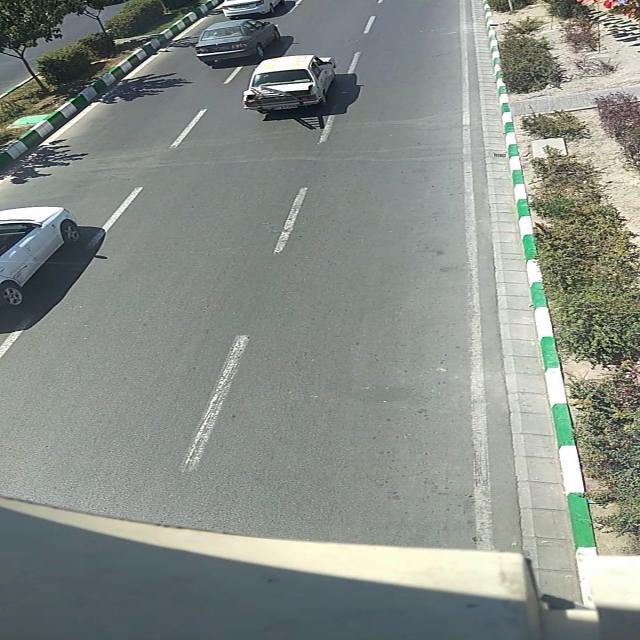car: (0, 207, 82, 307), (242, 54, 341, 115), (197, 19, 276, 65), (222, 0, 288, 18)
